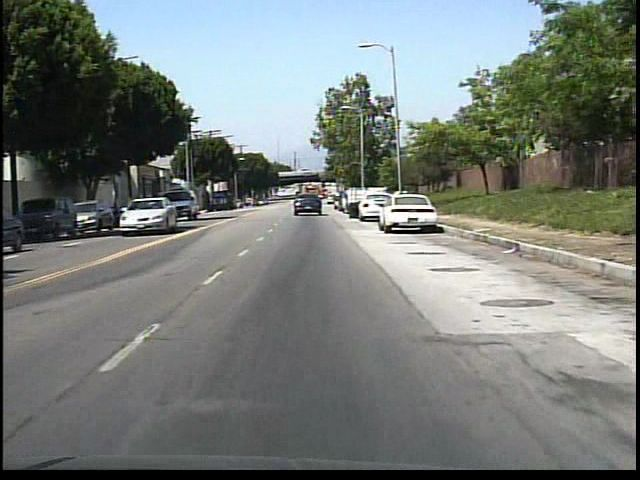car: (19, 193, 83, 239), (376, 191, 438, 230), (120, 195, 173, 235), (73, 200, 110, 229), (293, 192, 326, 216), (357, 190, 383, 219)
strada: (11, 217, 640, 461)
